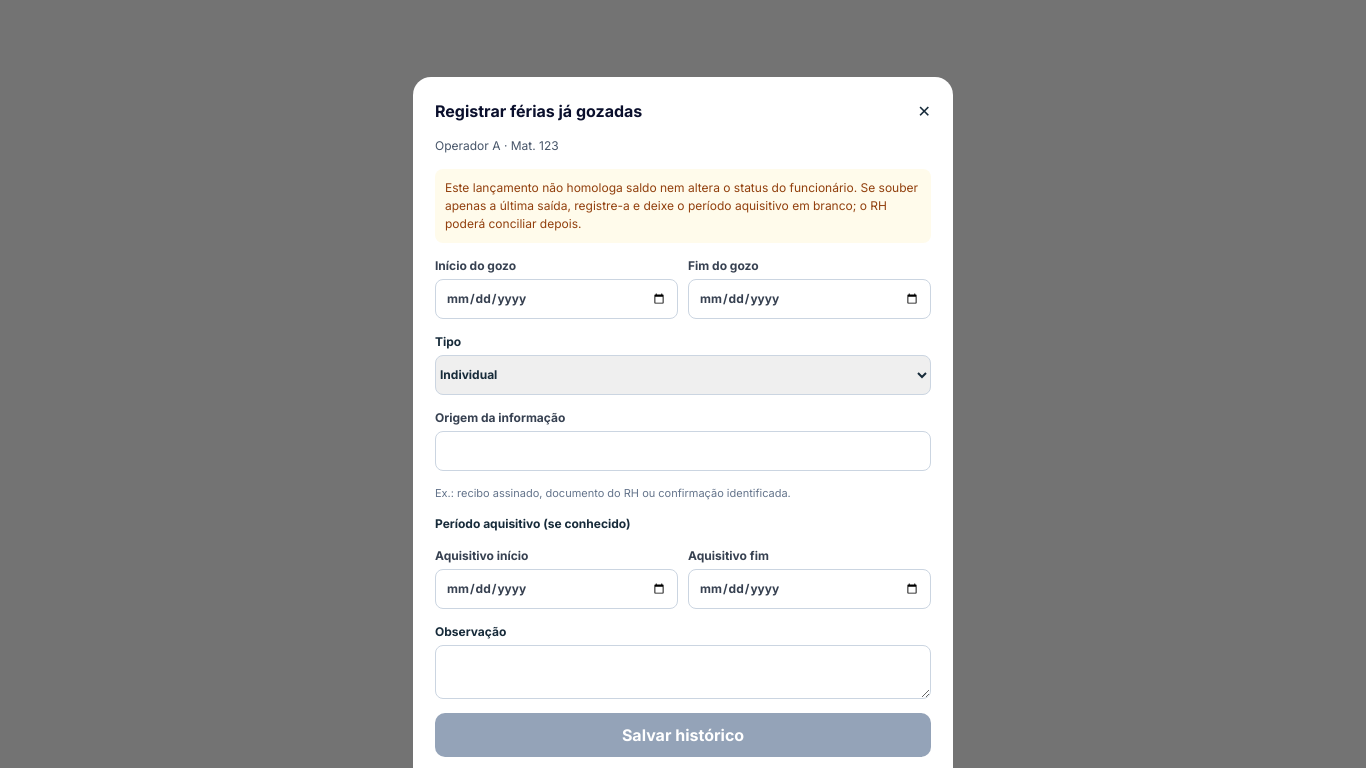
Histórico manual de férias › não salva datas sobrepostas ao histórico existente
Step 1. Type "2025-07-01" into the date field labelled "Início do gozo" → (556, 299), box [435,279,678,319]
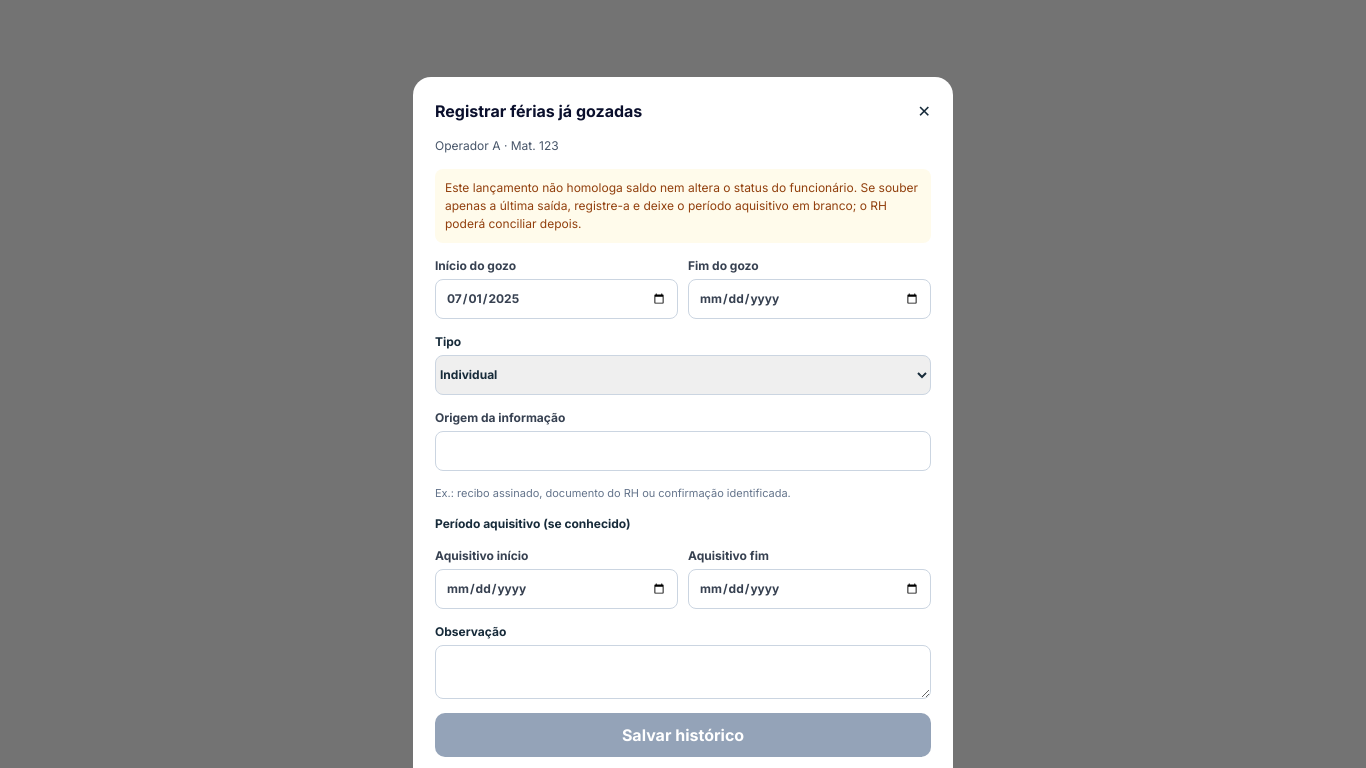
Step 2. Type "2025-07-15" into the date field labelled "Fim do gozo" → (810, 299), box [688,279,931,319]
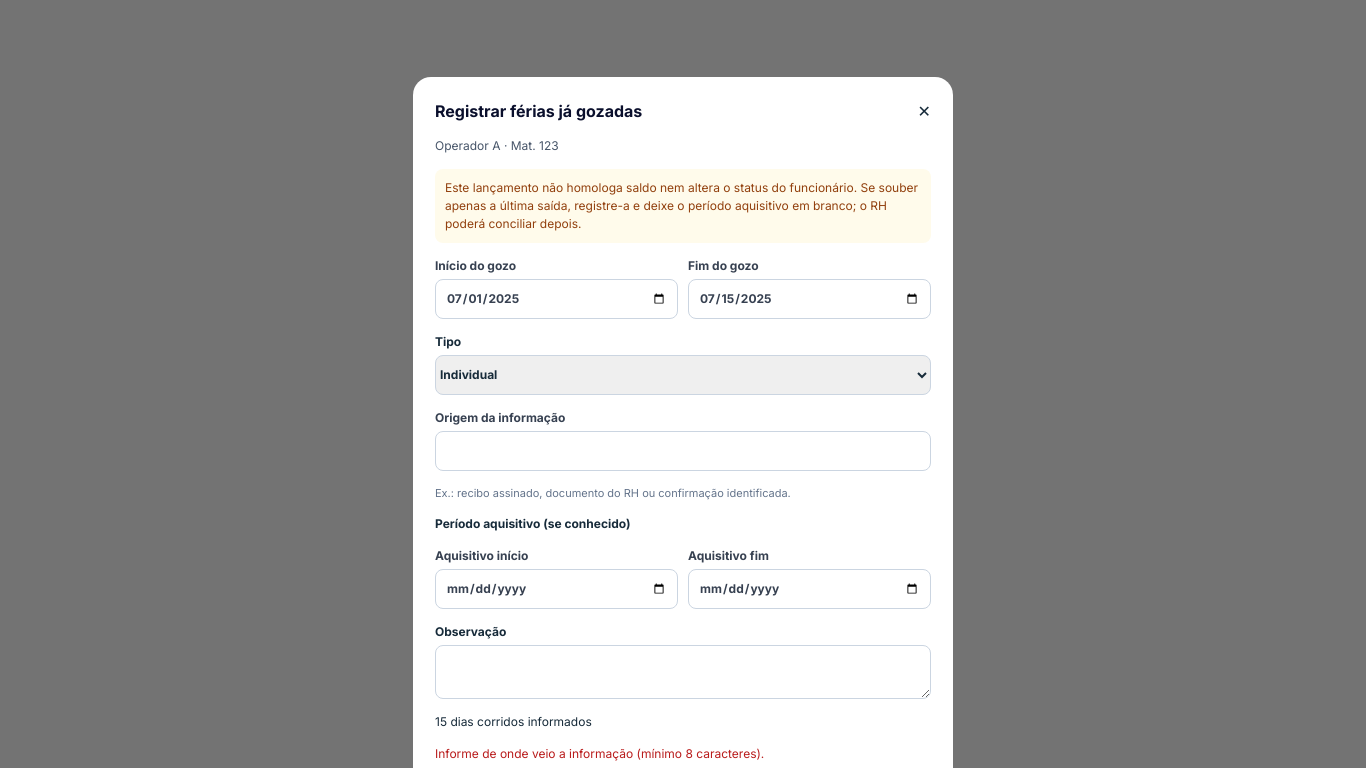
Step 3. Type "Recibo do RH" into the field labelled "Origem da informação" → (683, 451), box [435,431,931,471]
(page scrolled)
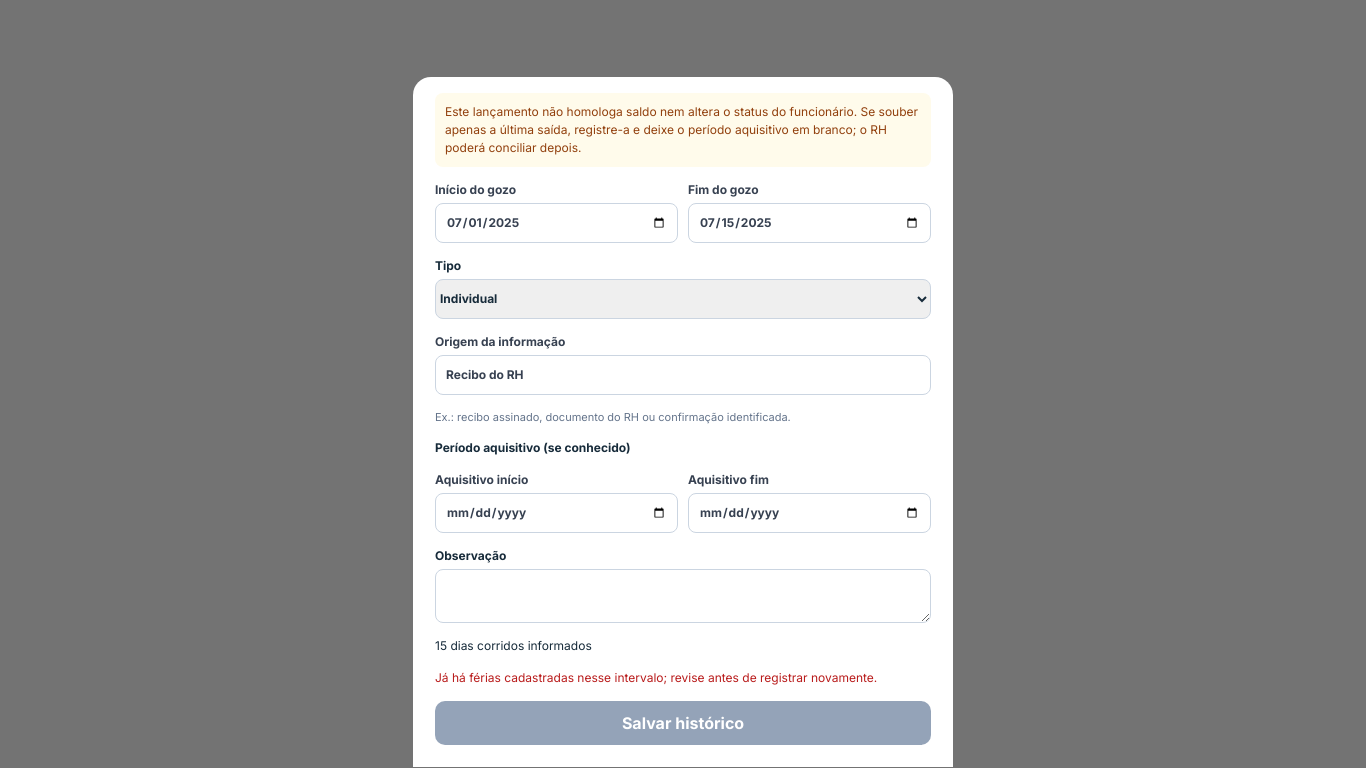
Result: the text "Já há férias cadastradas nesse intervalo; revise antes de registrar novamente." is shown at [435,669,931,687]
Result: the button "Salvar histórico" is disabled at [435,701,931,745]
